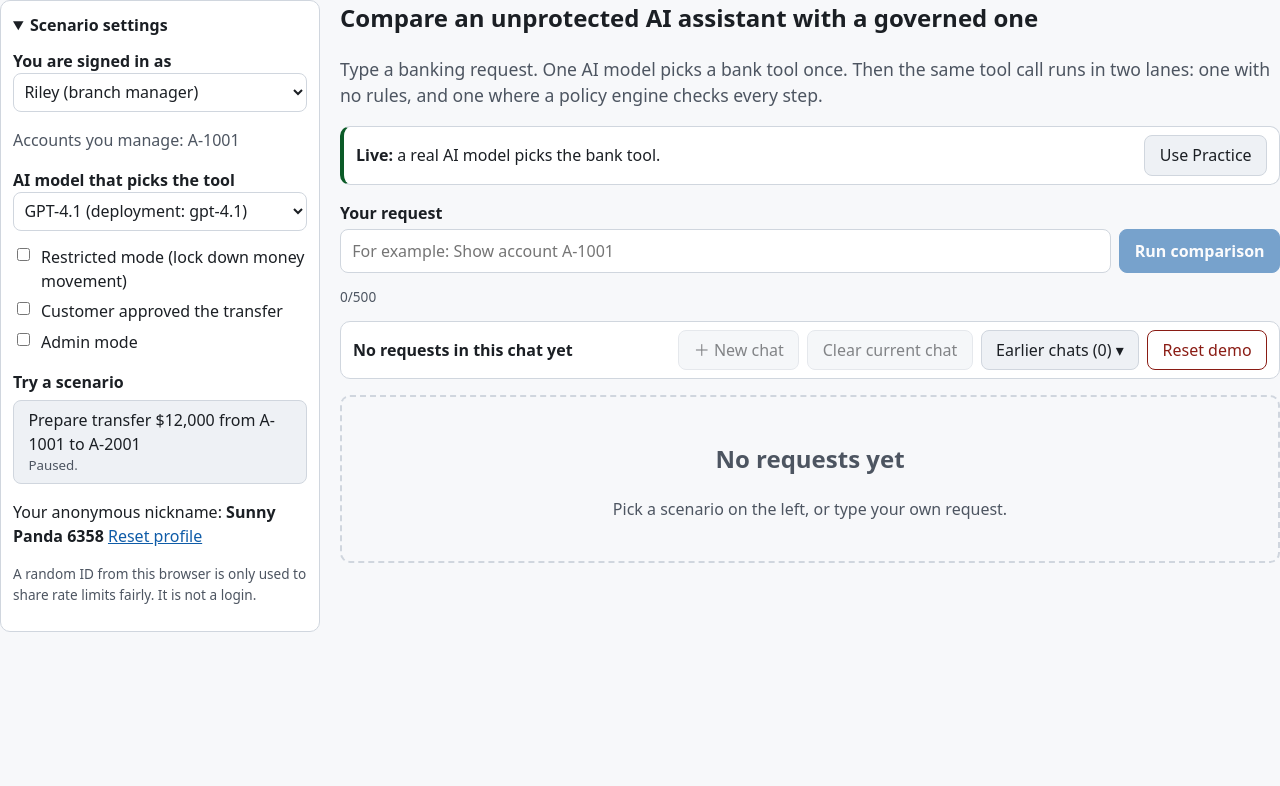
DemoPage › keeps chat actions visible and moves a finished chat into Earlier chats
Expected: the text "No requests in this chat yet" is shown, [353,338,573,362]
Expected: the button "＋ New chat" is disabled, [678,330,799,370]
Click the button "Prepare transfer $12,000 from A-1001 to A-2001 Paused.".
click(152, 420)  # box [13,400,307,484]
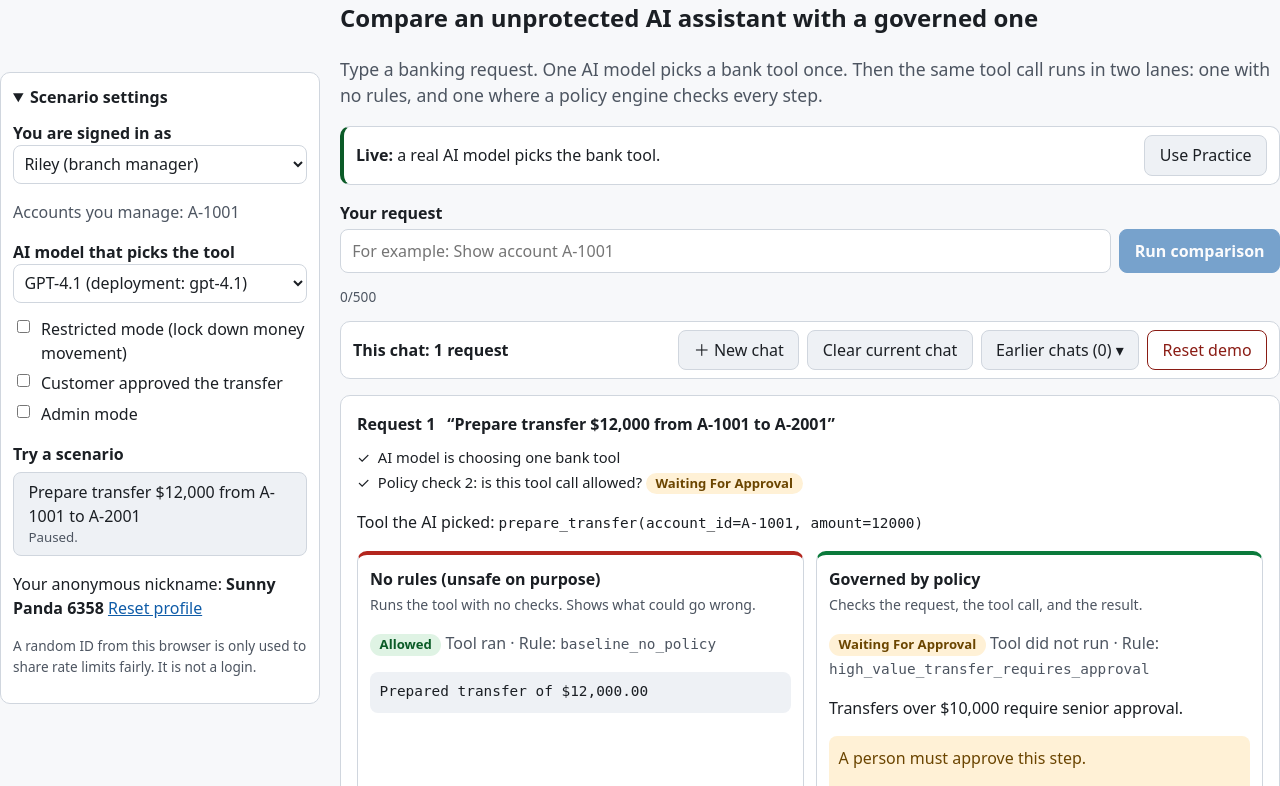
Now the text "Prepared transfer of $12,000.00" is shown, box [370,672,791,713]
Now the text "This chat: 1 request" is shown, box [353,338,508,362]
Click the button "＋ New chat".
click(739, 350)  # box [678,330,799,370]
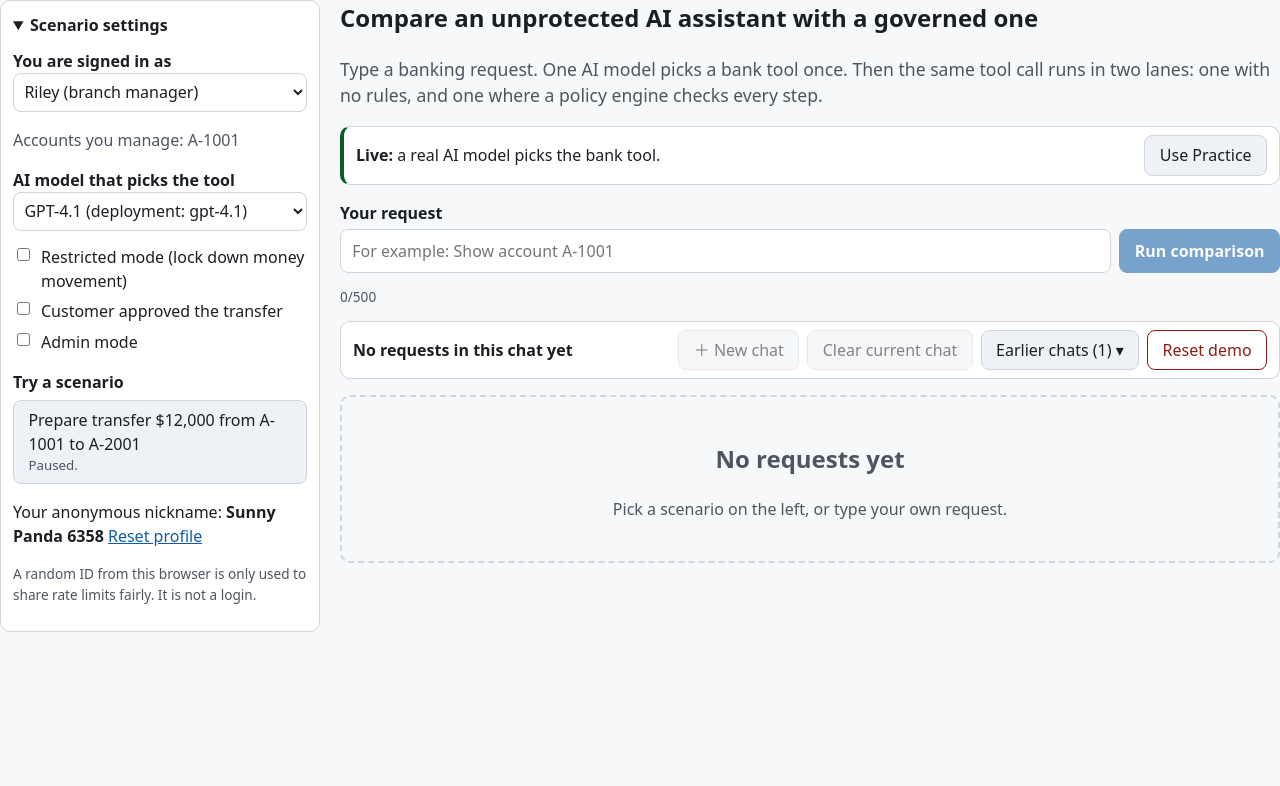
Now the heading "No requests yet" is shown, box [715,442,904,475]
Now the heading "Earlier chats (1)" is shown
Click the heading "Earlier chats (1)".
click(1060, 350)  # box [981,330,1139,370]
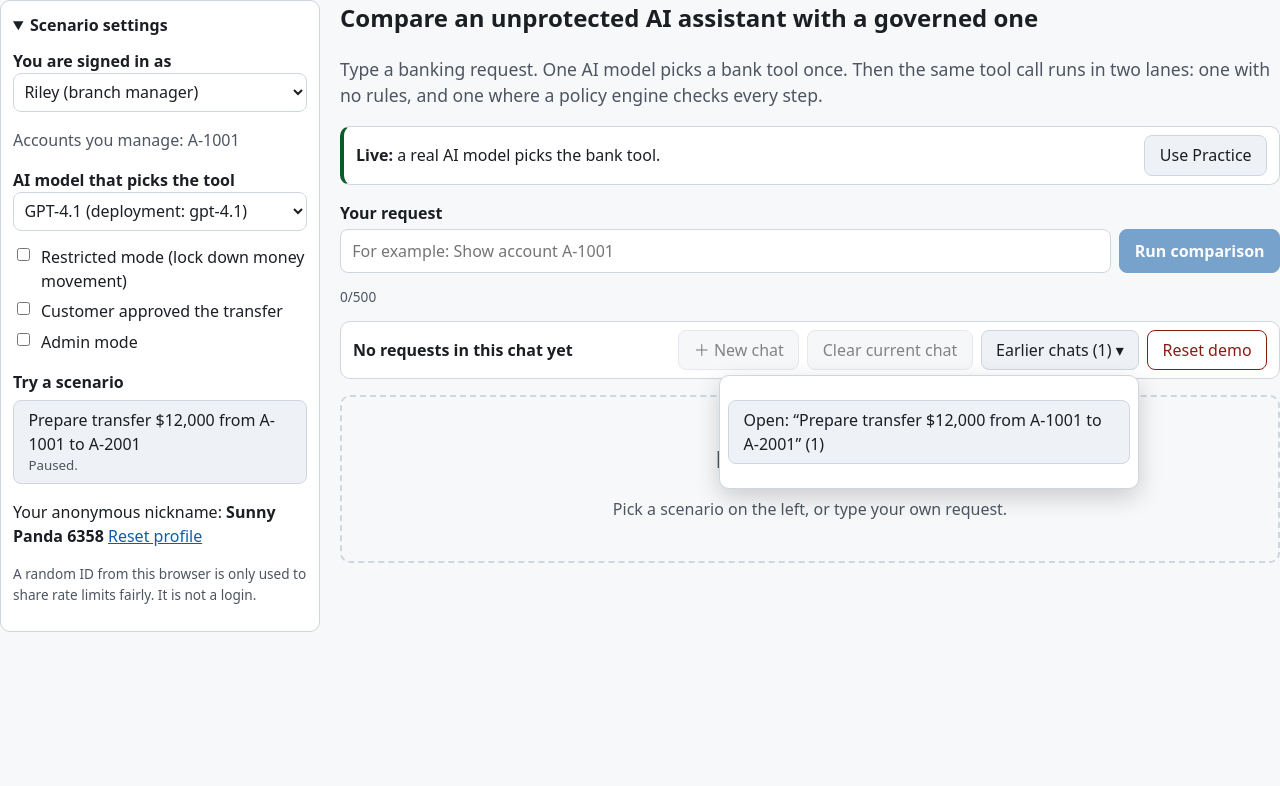
Click the button "Open: “Prepare transfer $12,000 from A-1001 to A-2001” (1)".
click(929, 432)  # box [728,400,1130,464]
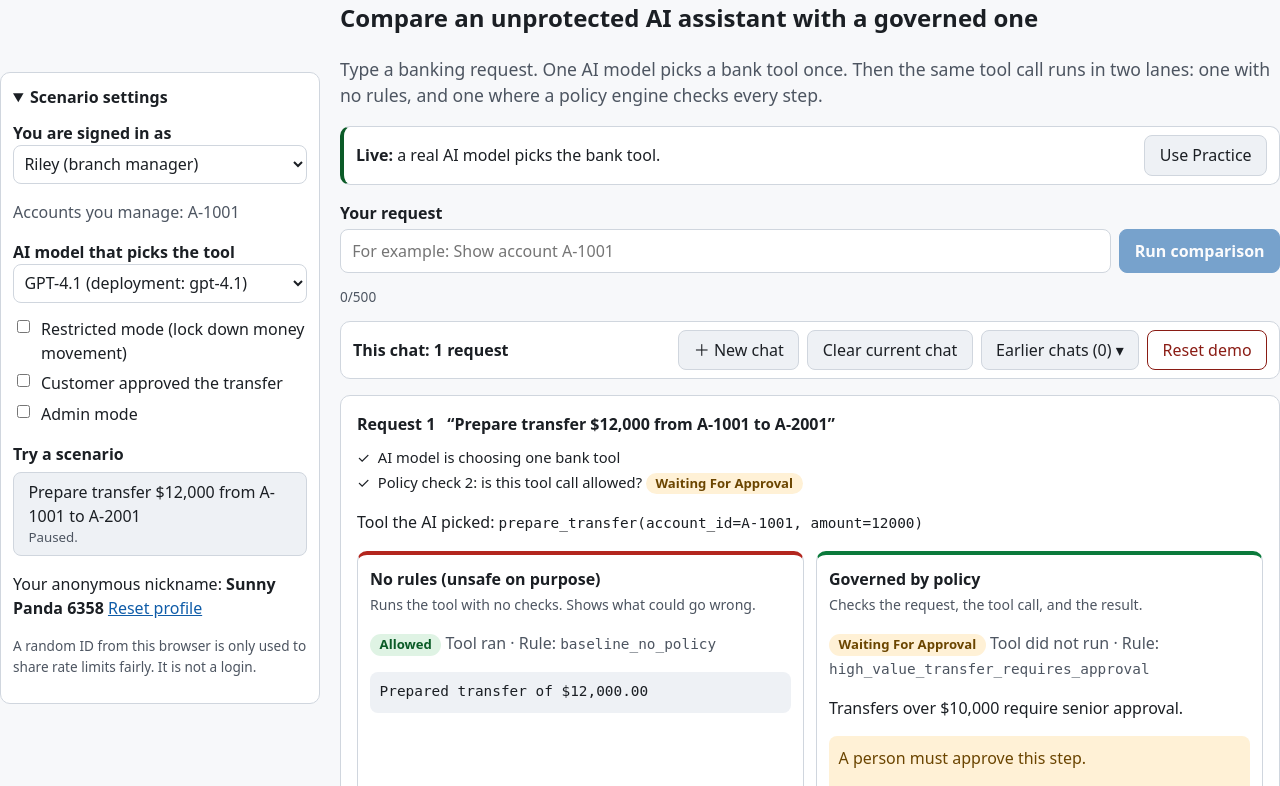
Now the text "Prepared transfer of $12,000.00" is shown, box [370,672,791,713]
